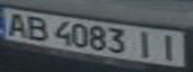0: (69, 21, 90, 50)
3: (106, 25, 130, 55)
4: (48, 18, 72, 46)
8: (87, 24, 109, 53)
A: (3, 10, 30, 38)
B: (21, 13, 51, 42)
I: (154, 32, 187, 62), (130, 28, 160, 60)
